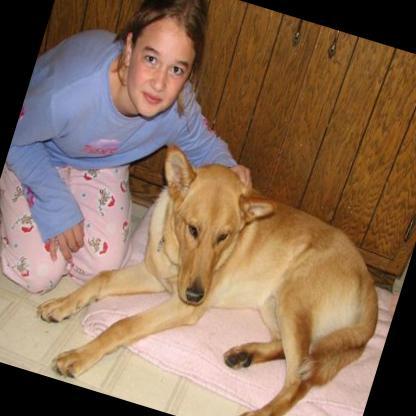dingo: (16, 115, 412, 416)
